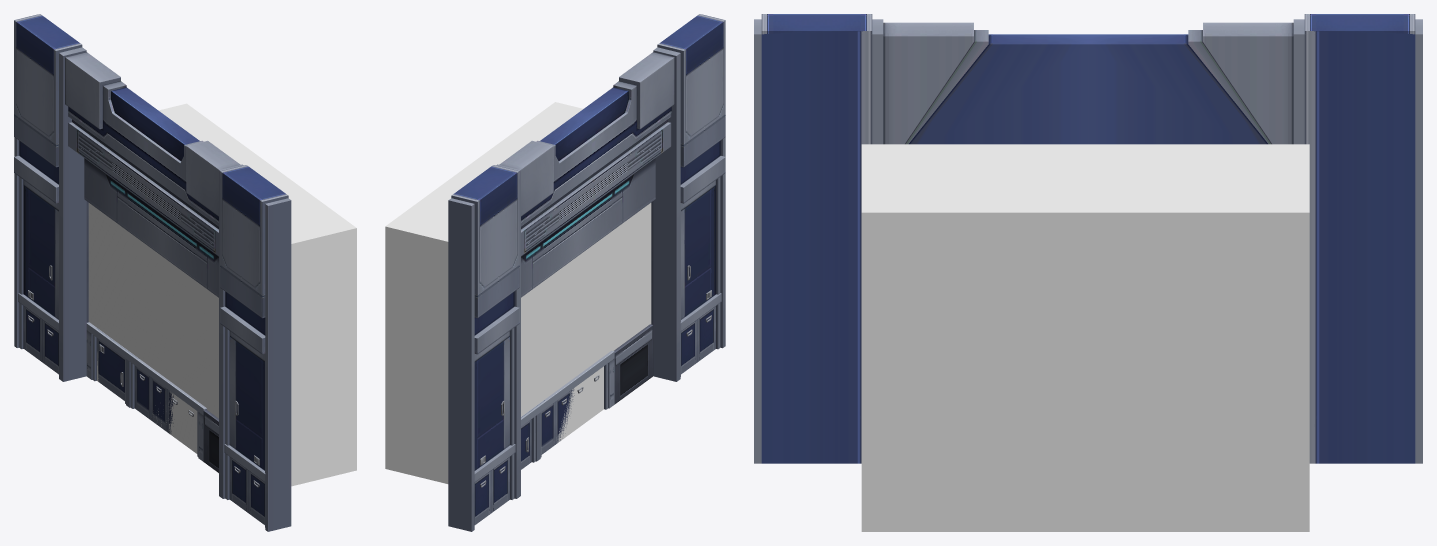
Rendered from my_carrier_01_kitchen_01.glb.
3 renders of one model, left to right at view 1: azimuth 30°, elevation 25°; view 2: azimuth 150°, elevation 25°; view 3: azimuth 270°, elevation 25°, orthographic. The views are drawn at different scales.
Parts seen in each view (by area): view 1: my_carrier_01_kitchen_01, my_carrier_01_kitchen_01_cover, my_carrier_01_kitchen_01_hole, my_carrier_01_kitchen_01_out; view 2: my_carrier_01_kitchen_01, my_carrier_01_kitchen_01_cover, my_carrier_01_kitchen_01_hole, my_carrier_01_kitchen_01_out; view 3: my_carrier_01_kitchen_01_cover, my_carrier_01_kitchen_01.
Boxes of the visible parts, x1,y1,x2,y2 form: my_carrier_01_kitchen_01: (14,14,291,531); my_carrier_01_kitchen_01_cover: (158,103,356,486); my_carrier_01_kitchen_01_hole: (88,203,218,453); my_carrier_01_kitchen_01_out: (84,158,218,472); my_carrier_01_kitchen_01: (448,14,725,531); my_carrier_01_kitchen_01_cover: (385,102,582,483); my_carrier_01_kitchen_01_hole: (521,203,651,442); my_carrier_01_kitchen_01_out: (521,158,655,469); my_carrier_01_kitchen_01_cover: (861,144,1309,531); my_carrier_01_kitchen_01: (754,14,1422,463).
Size of the model in its own units: 0.0127 by 0.03 by 0.042.
4 materials, 2 textured.
